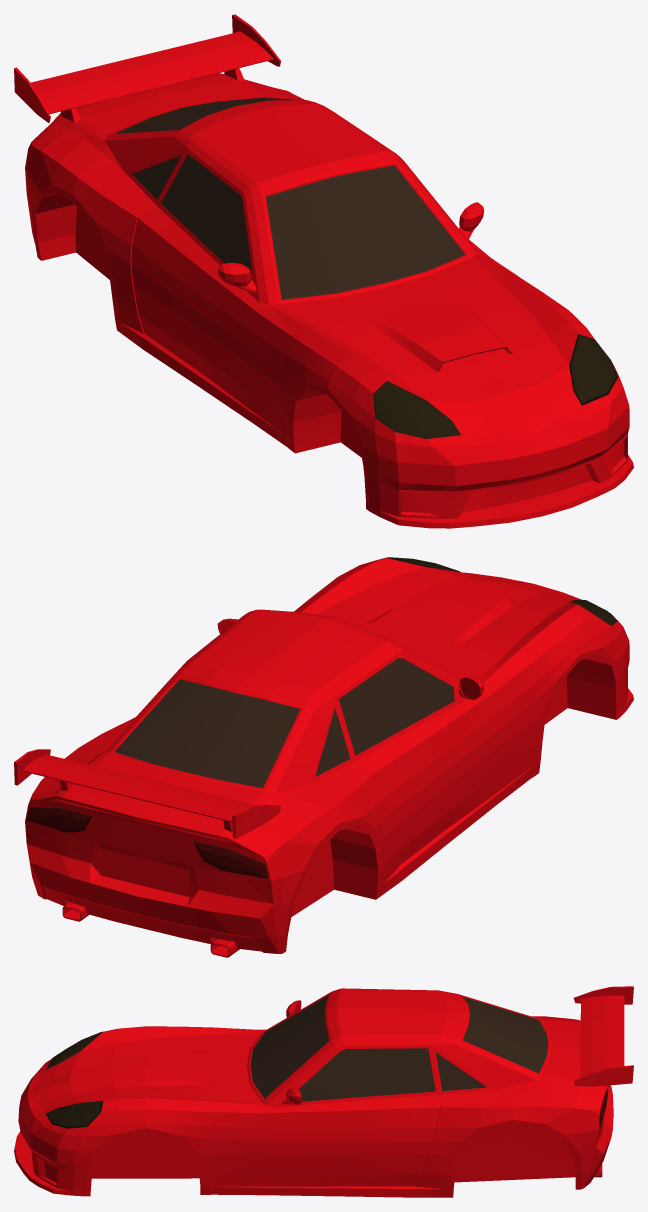
The model's file is sportscar.gltf.
3 renders of one model, top to bottom at view 1: azimuth 30°, elevation 25°; view 2: azimuth 150°, elevation 25°; view 3: azimuth 270°, elevation 25°, orthographic. The views are drawn at different scales.
Parts seen in each view (by area): view 1: Body, Glass; view 2: Body, Glass; view 3: Body, Glass.
Boxes of the visible parts, box(x1,y1,x2,y2) form: Body: box(14, 14, 633, 528); Glass: box(114, 97, 617, 438); Body: box(14, 558, 633, 957); Glass: box(26, 557, 617, 878); Body: box(14, 986, 633, 1197); Glass: box(46, 995, 608, 1128).
Bounding box in the file's own units: 2.83 × 1.96 × 7.7.
Materials: 3 (2 with a texture image).
